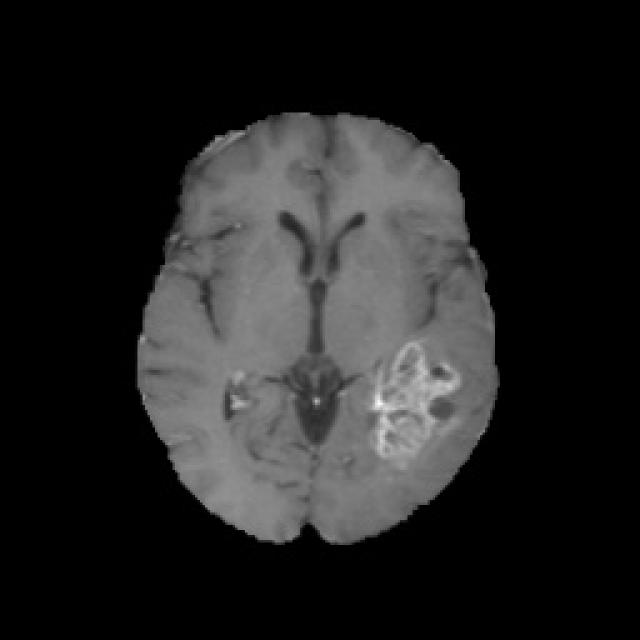negative: (372, 341, 460, 464)
